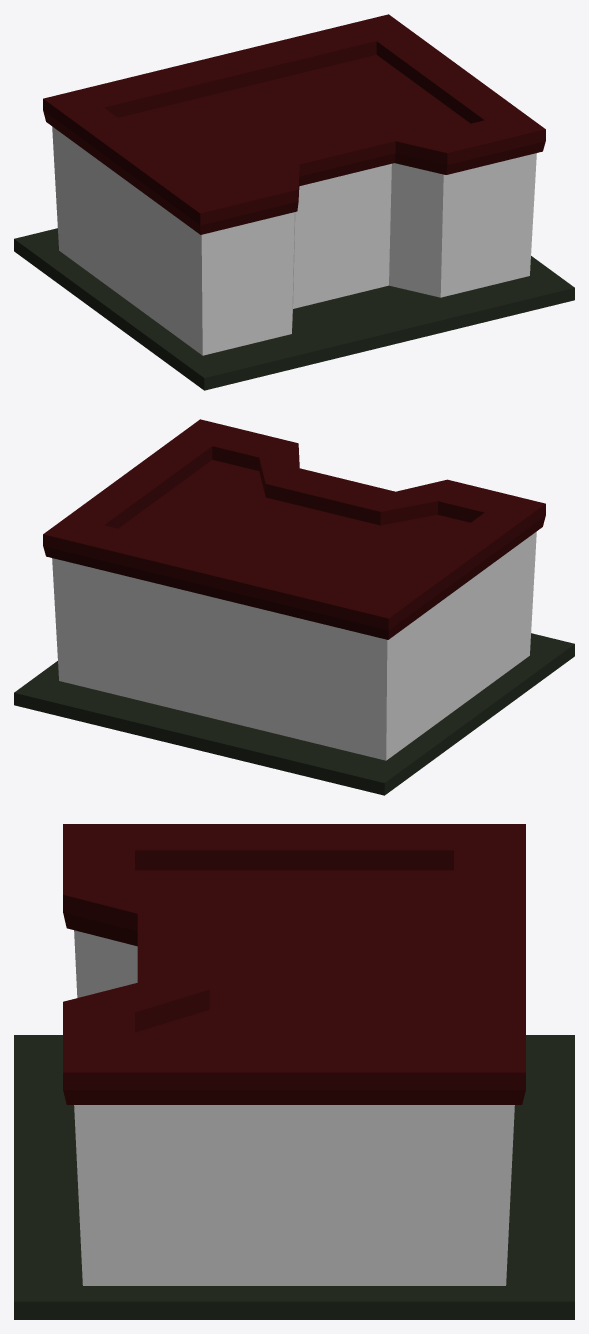
The model's file is Store_x1.FBX.
3 renders of one model, top to bottom at view 1: azimuth 30°, elevation 25°; view 2: azimuth 150°, elevation 25°; view 3: azimuth 270°, elevation 25°, orthographic. The views are drawn at different scales.
Visible parts, largest first — view 1: Store_x1; view 2: Store_x1; view 3: Store_x1.
Boxes of the visible parts, x1,y1,x2,y2 form: Store_x1: [14, 14, 574, 390]; Store_x1: [14, 419, 574, 795]; Store_x1: [14, 824, 574, 1319].
Size of the model in its own units: 553 by 231 by 492.
